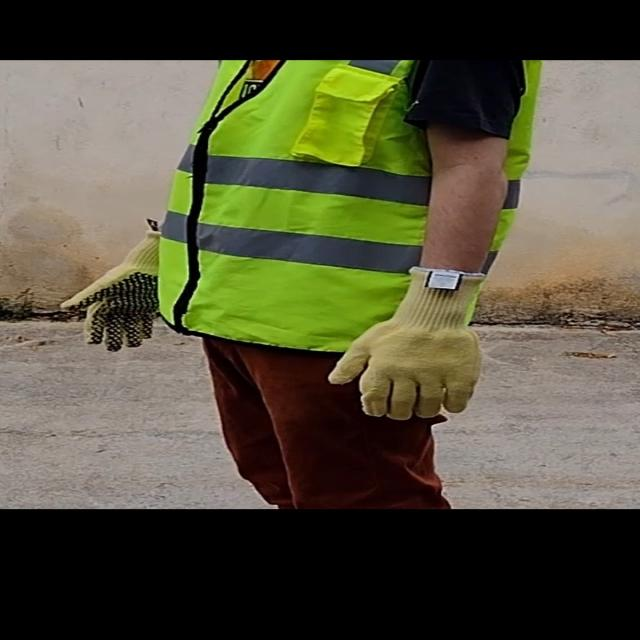glove: (341, 272, 496, 416), (61, 234, 169, 349)
pants: (186, 334, 454, 508)
vest: (146, 56, 546, 344)
